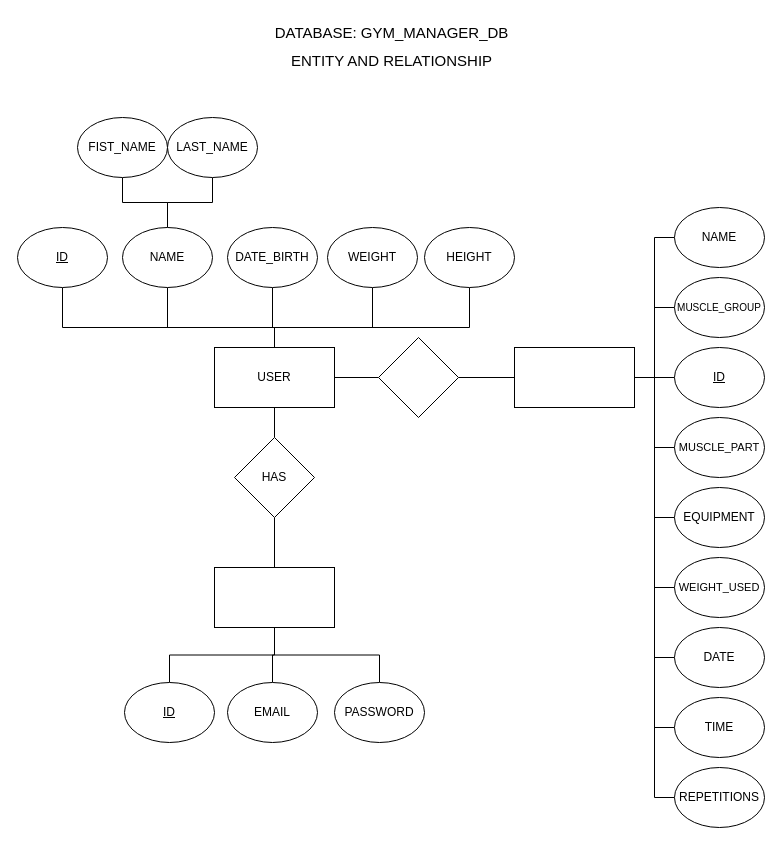
This 782x845 diagram has some shape labels left out. Each missing label, with the centre of its shape:
EXERCISE: the point at 574,377
LOGIN: the point at 274,597
REGISTER: the point at 418,377
